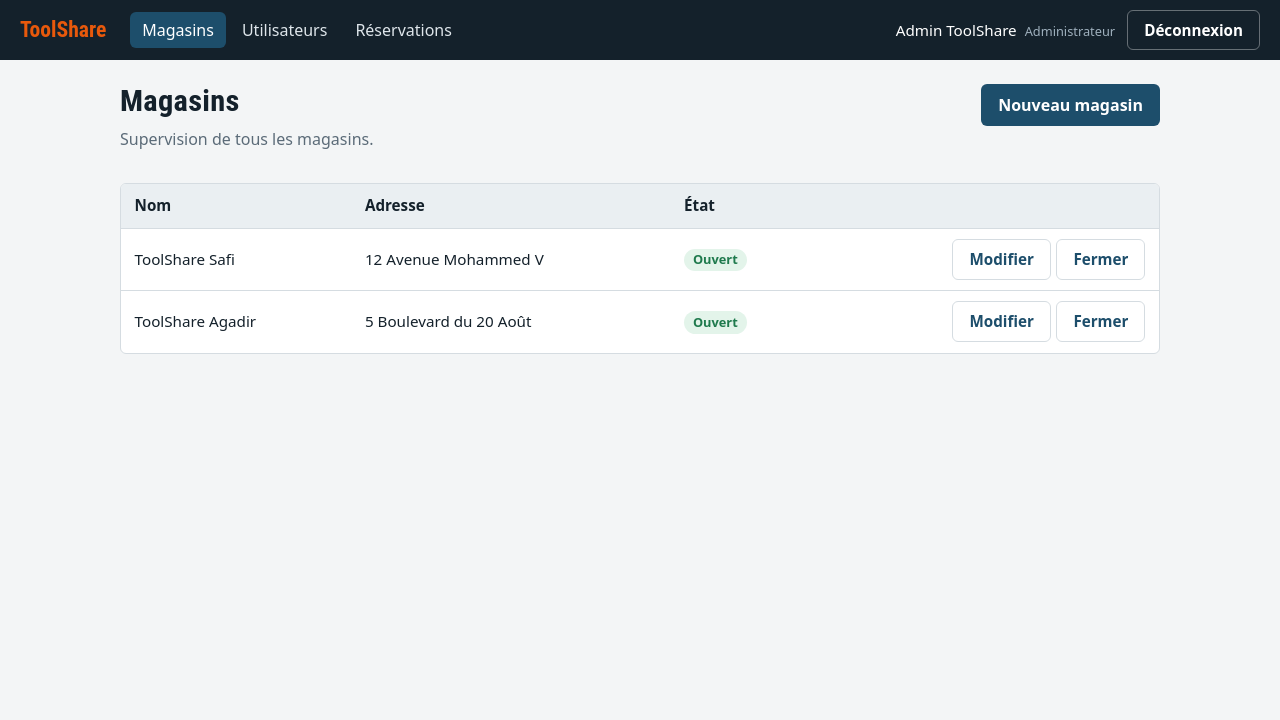
it: admin stores › validates and creates a store, which then appears in the list
Expected: the text "ToolShare Safi" is shown, [121, 228, 351, 291]
Click the button "Nouveau magasin" at (1071, 105), box [981, 84, 1160, 126]
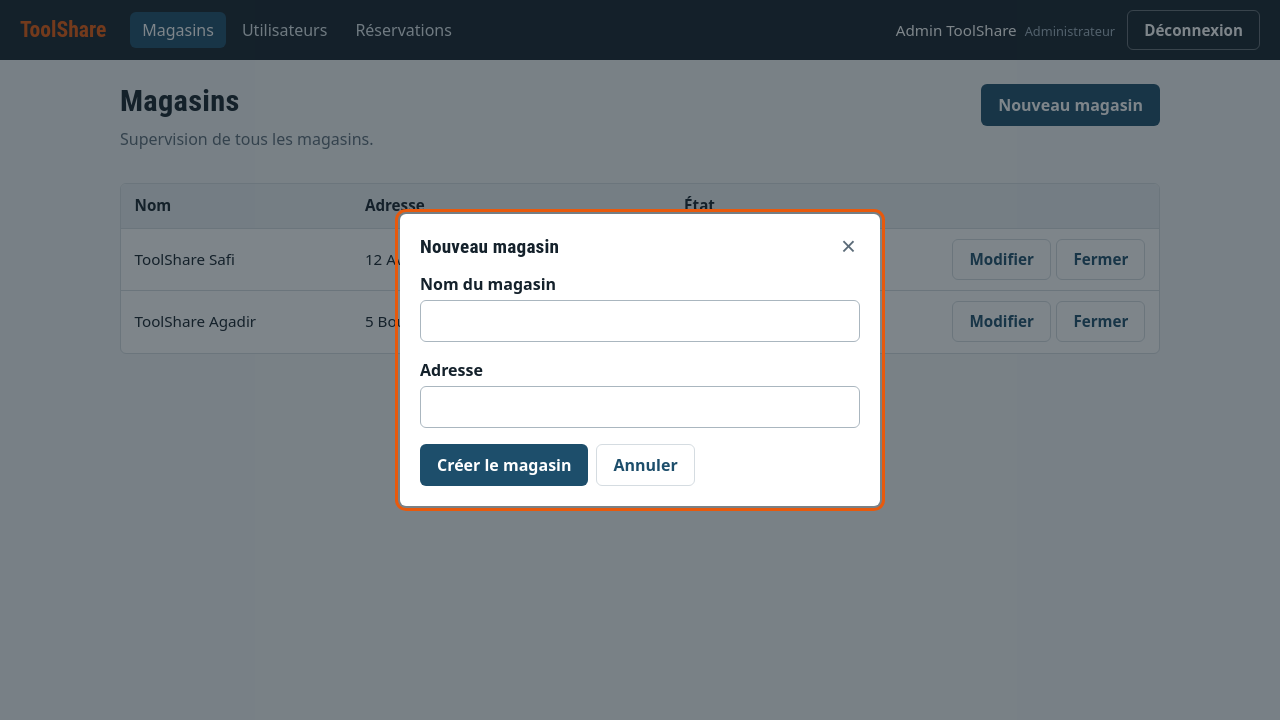
Click the button "Créer le magasin" at (504, 465), box [420, 444, 588, 486]
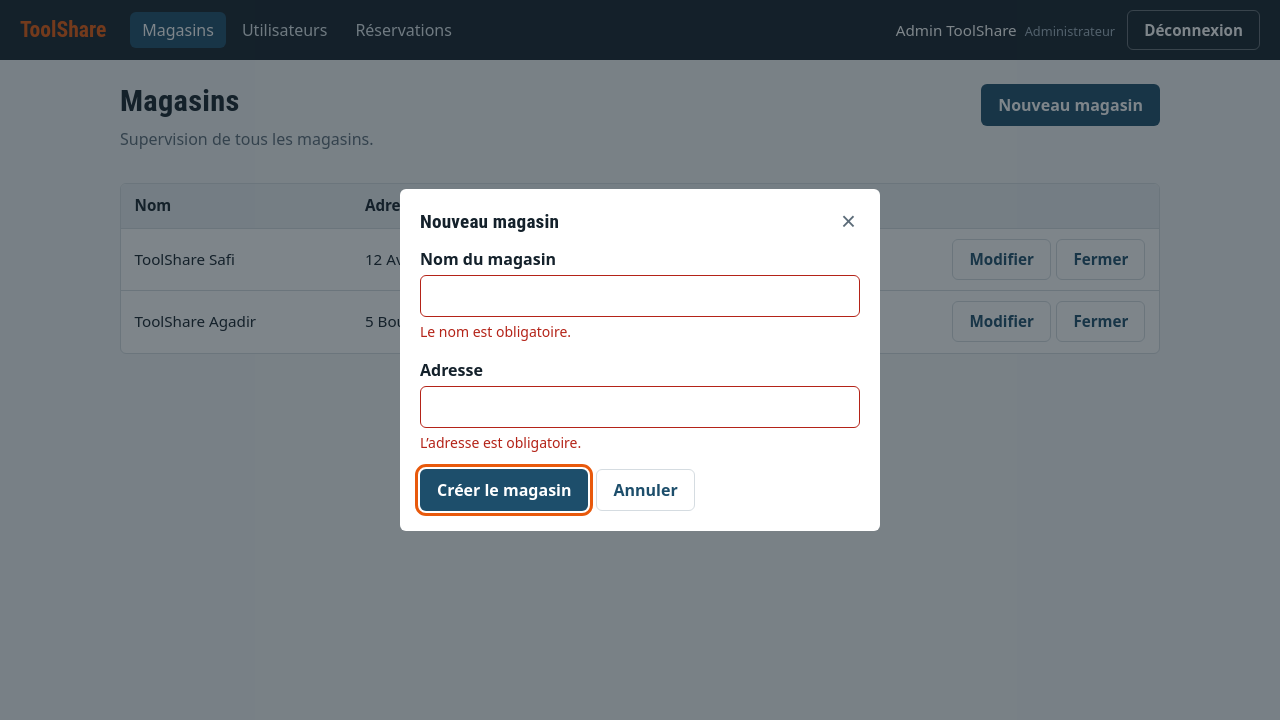
Now the text "Le nom est obligatoire." is shown, box [420, 322, 571, 341]
Now the text "L’adresse est obligatoire." is shown, box [420, 433, 581, 452]
Type "ToolShare Rabat" into the field labelled "Nom du magasin" at (640, 296), box [420, 275, 860, 317]
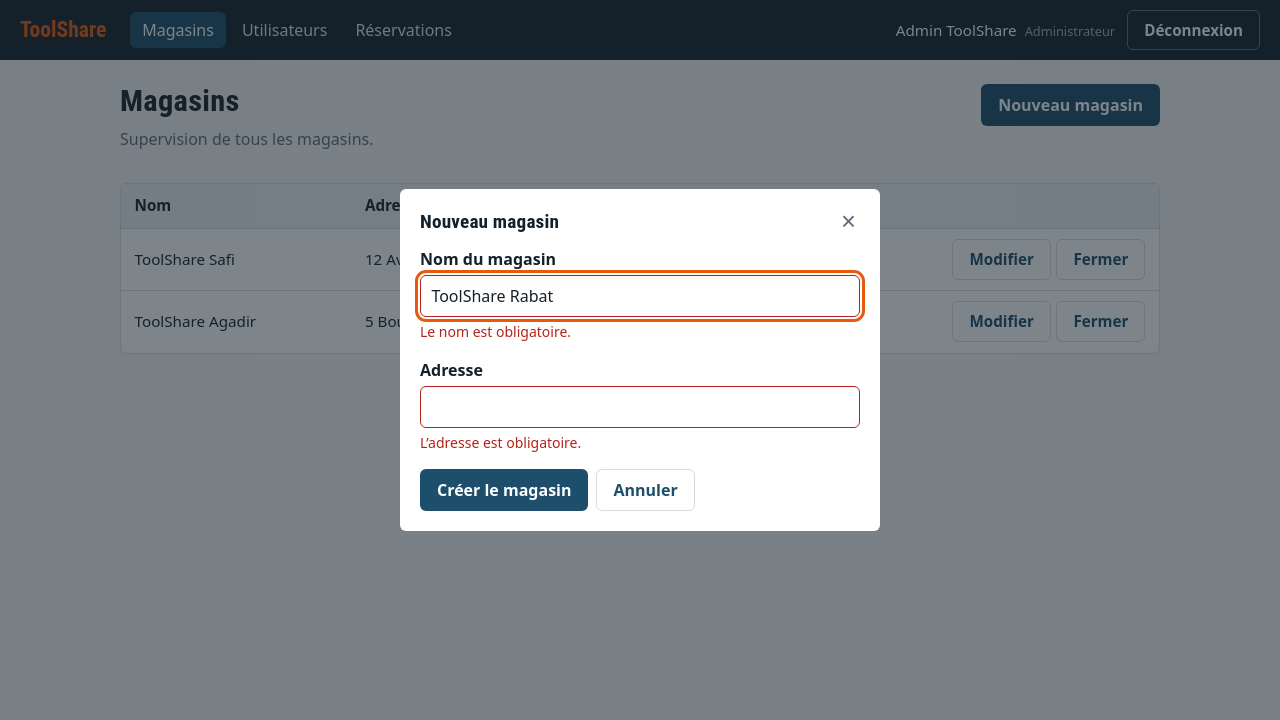
Type "1 Rue Test" into the field labelled "Adresse" at (640, 407), box [420, 386, 860, 428]
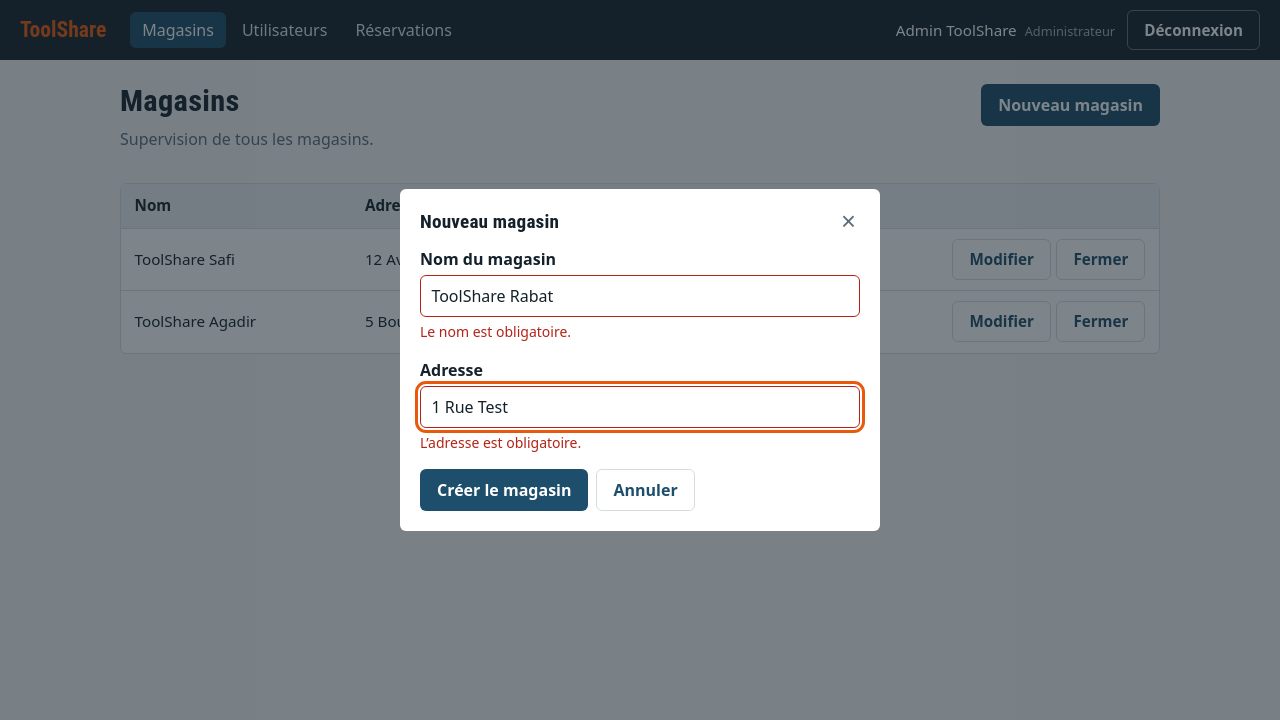
Click the button "Créer le magasin" at (504, 490), box [420, 469, 588, 511]
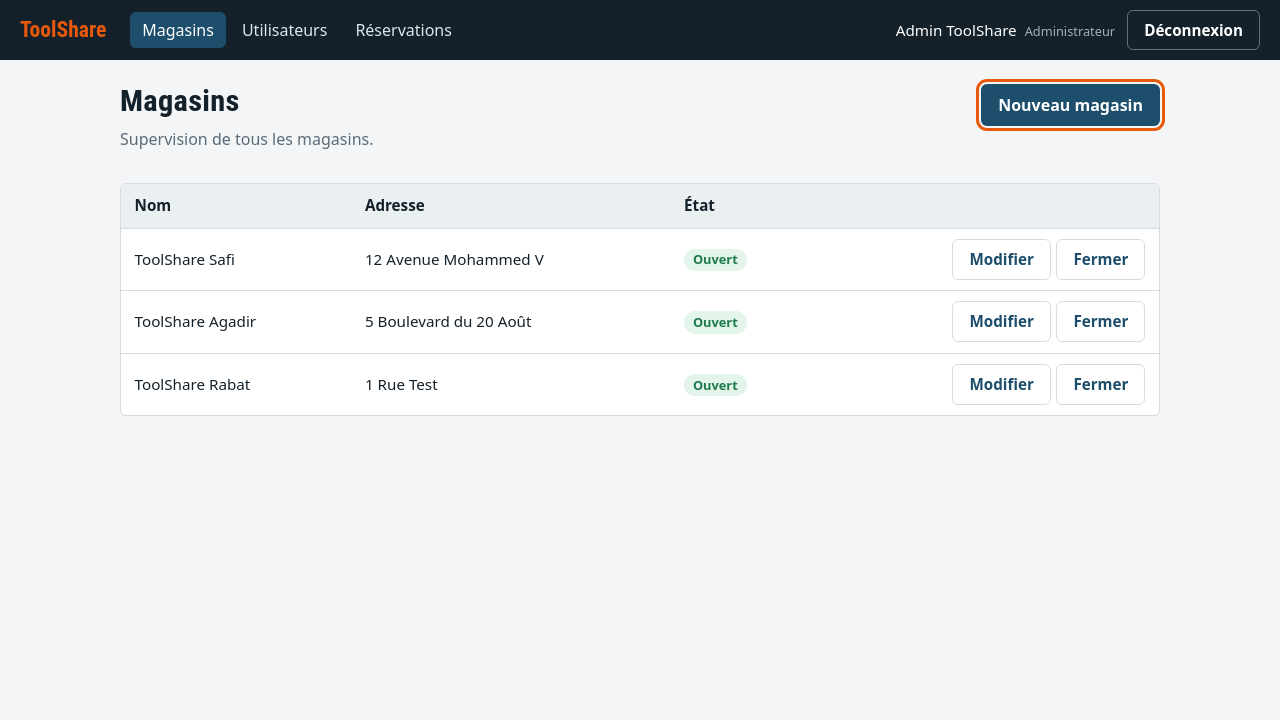
Now the text "ToolShare Rabat" is shown, box [121, 353, 351, 415]
